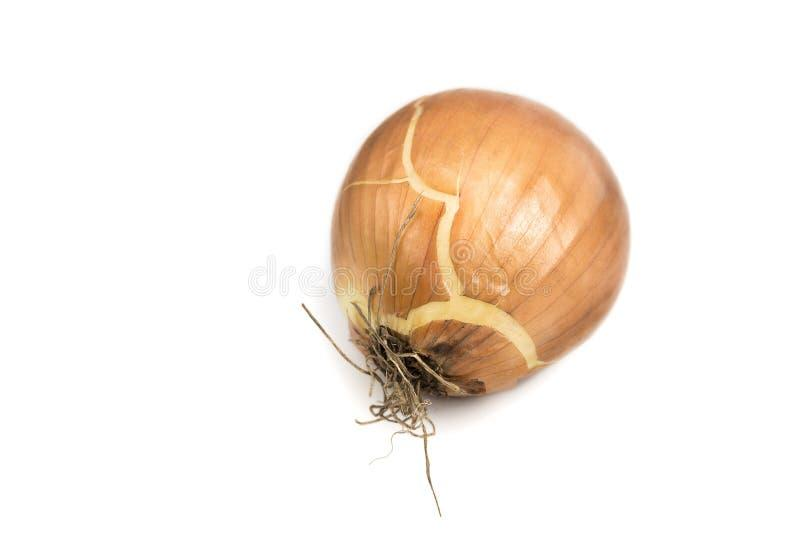Onion: (330, 86, 630, 399)
